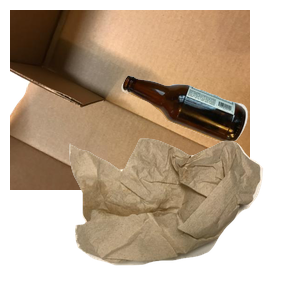cardboard: (10, 10, 250, 190)
glass: (119, 73, 300, 207)
plastic: (110, 164, 300, 300)
trash: (67, 136, 300, 300)
